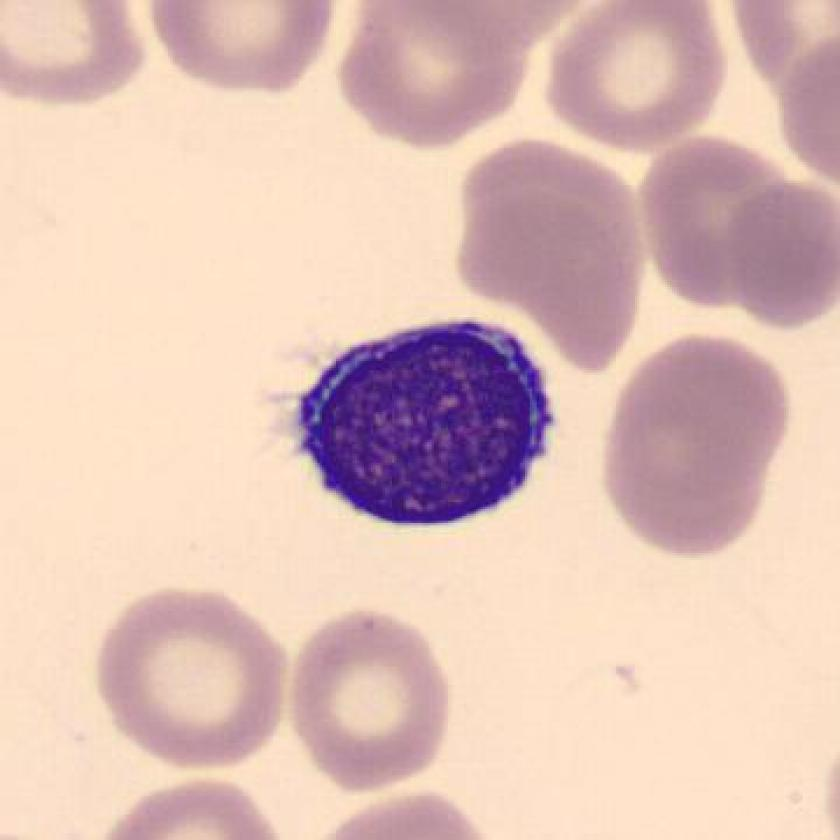lymphocyte: (270, 304, 571, 543)
